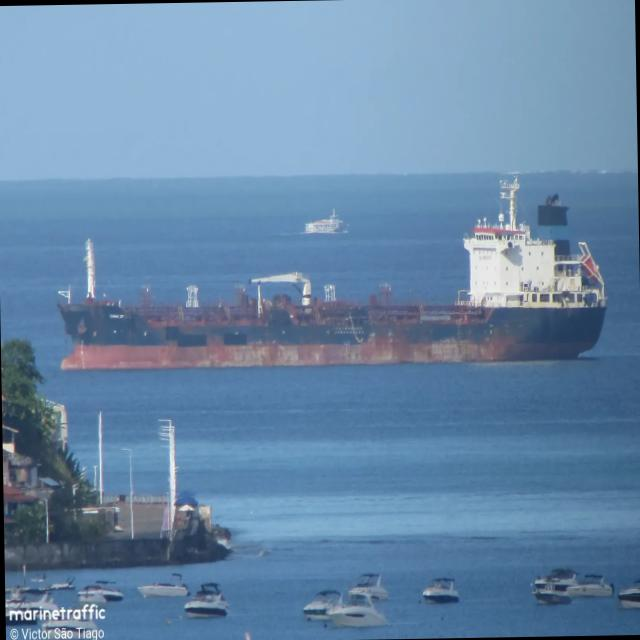Tanker: (58, 176, 607, 370)
